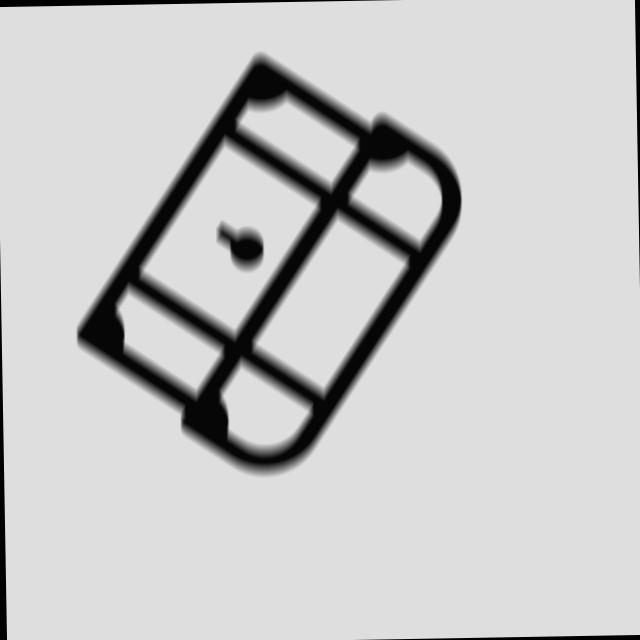treasure_box: (63, 39, 477, 491)
